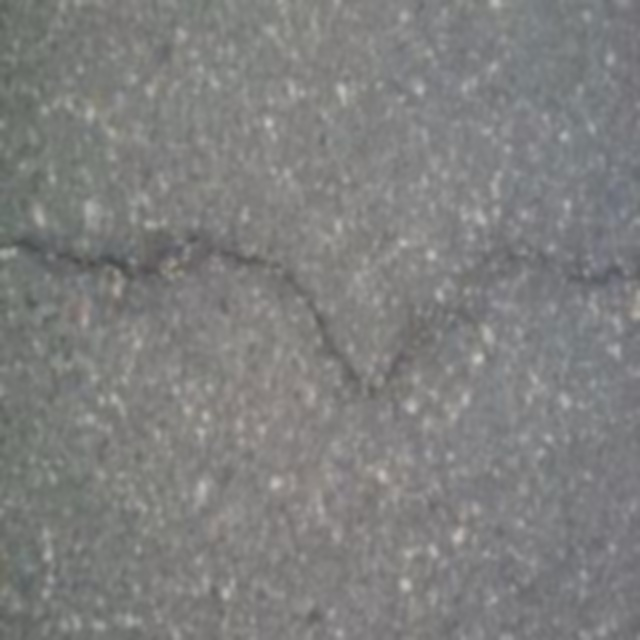SurfaceCrack: (10, 176, 640, 432)
